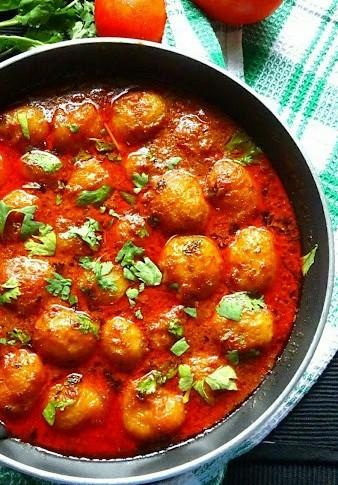DumAloo: (0, 82, 302, 462)
